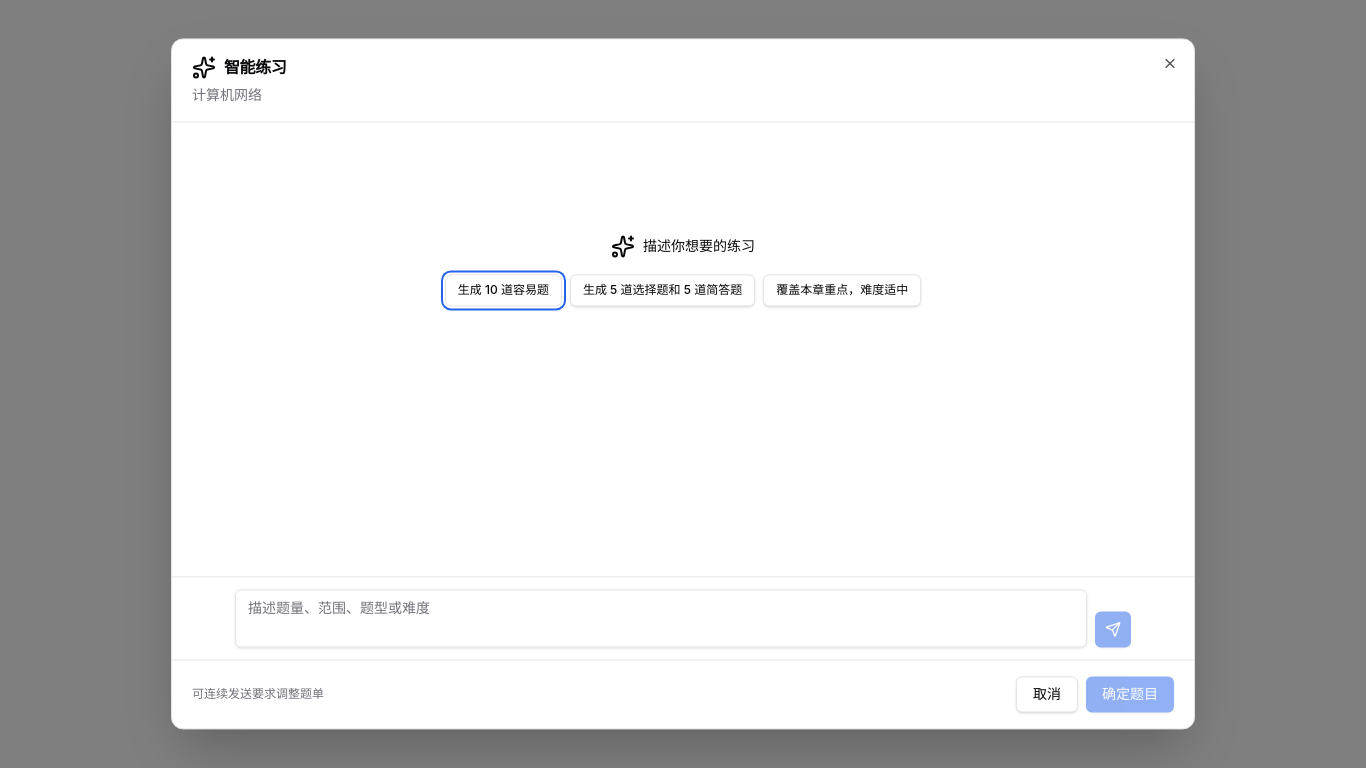
Test case: SmartPracticeChatDialog › 更换第 4 题时只生成一道并合并回上一轮题单
Step 1. Type "生成5道题" into the text box named "练习对话输入" → (661, 619), box [235,590,1087,648]
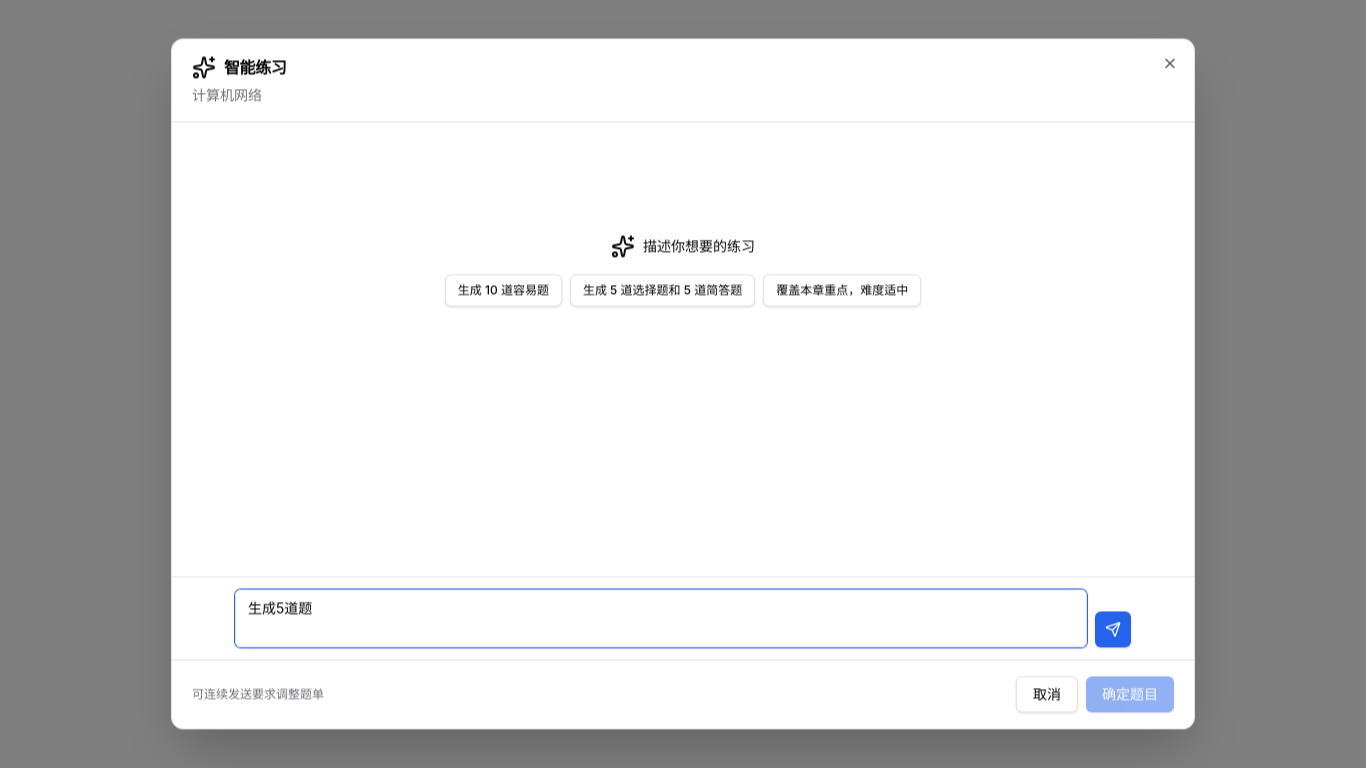
Step 2. Click the button named "发送" → (1113, 630), box [1095,612,1131,648]
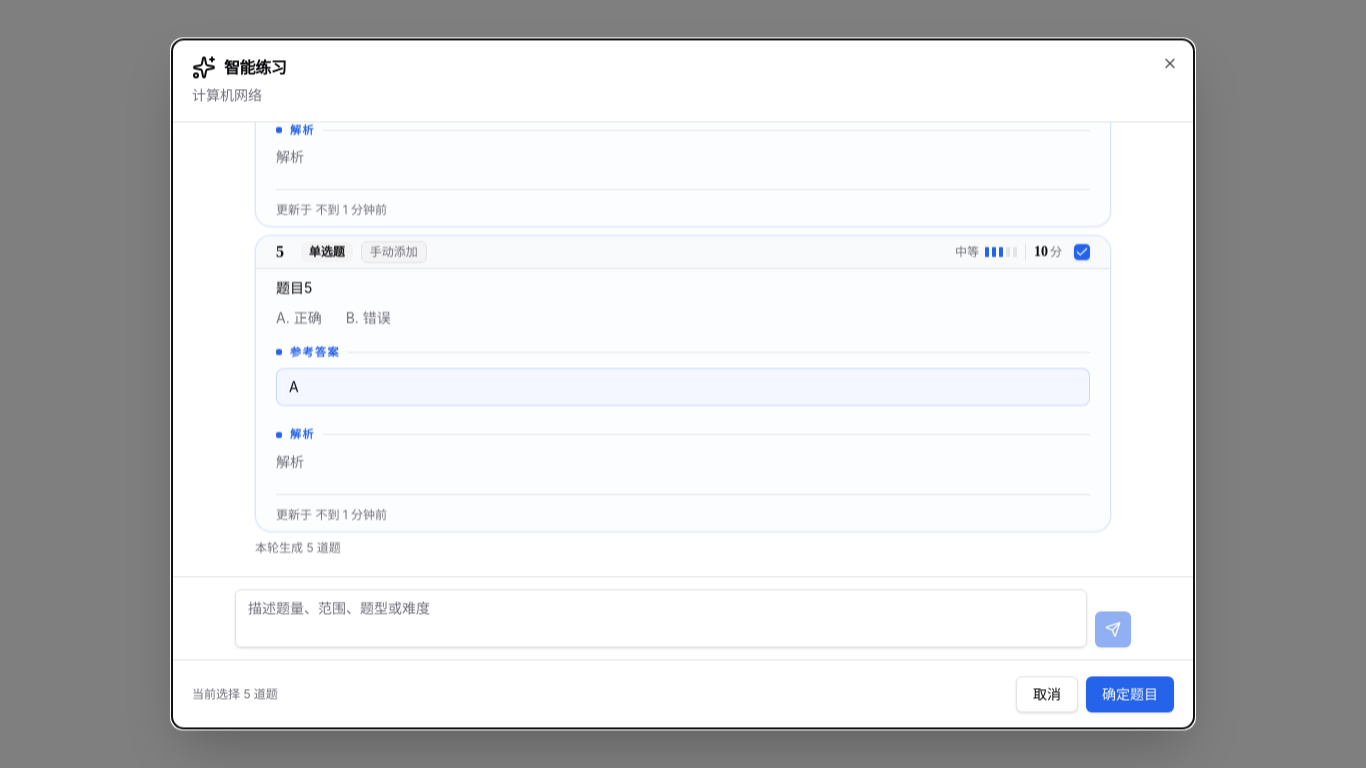
Expected: the text "本轮生成 5 道题" is shown, [255,540,341,555]
Step 3. Type "更换一下第4题" into the text box named "练习对话输入" → (661, 619), box [235,590,1087,648]
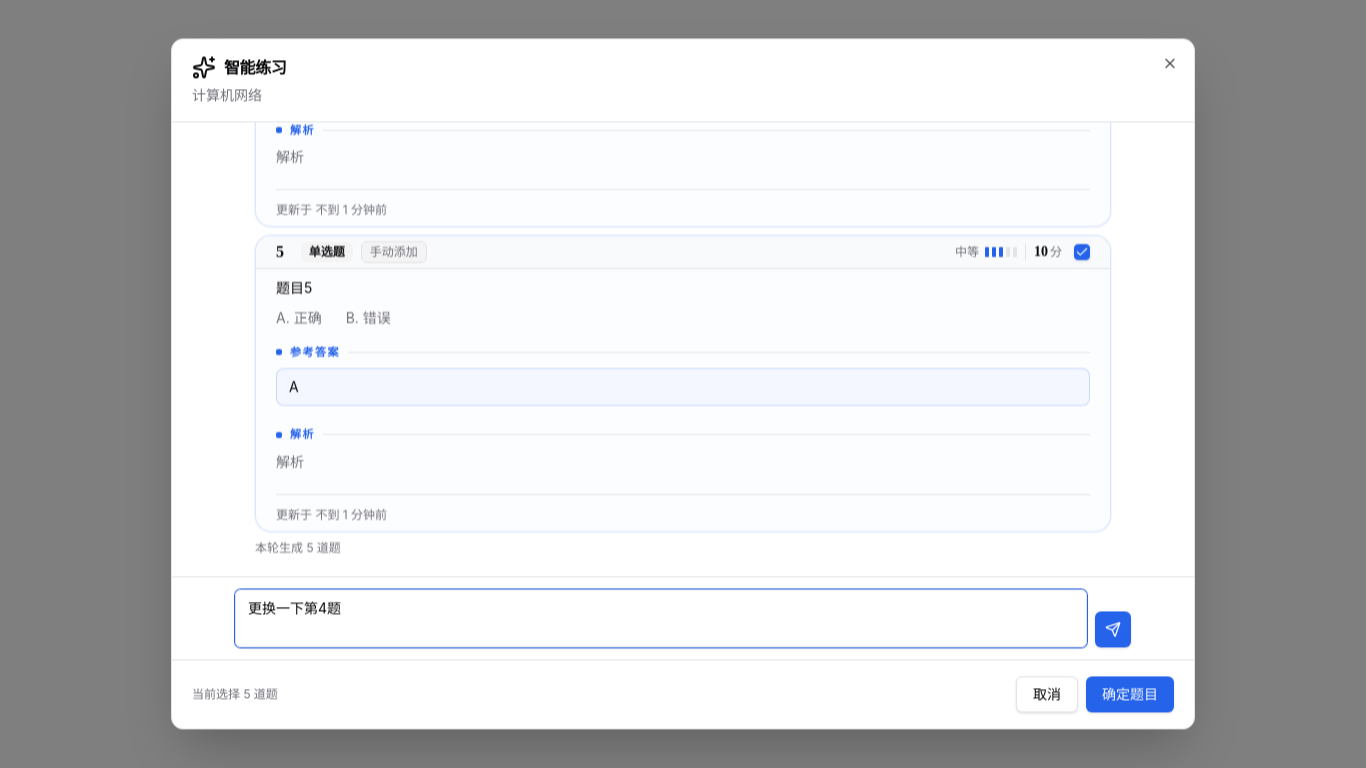
Step 4. Click the button named "发送" → (1113, 630), box [1095,612,1131,648]
(page scrolled)
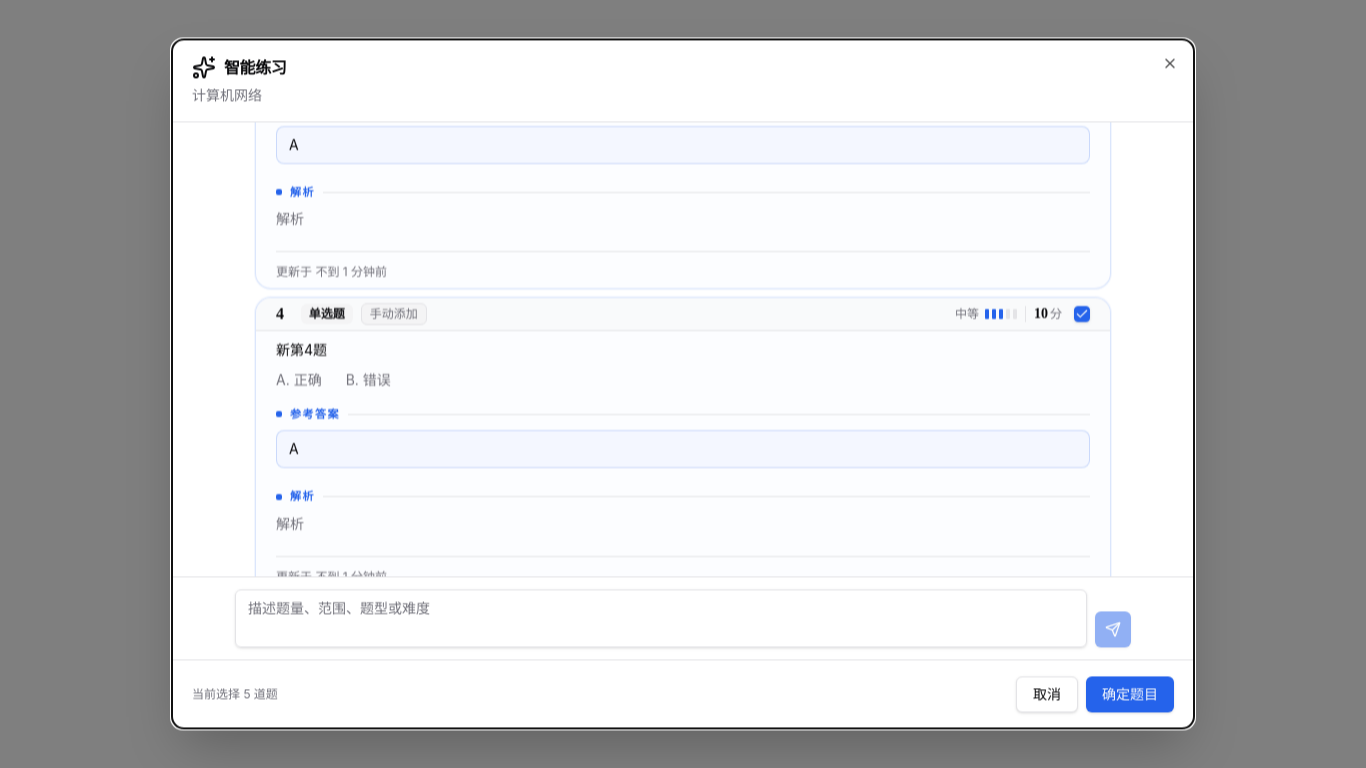
Expected: the text "当前选择 5 道题" is shown, [192,687,278,703]
Expected: the text "新第4题" is shown, [276,341,327,358]
